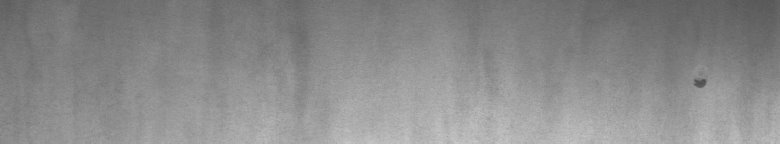fi: (691, 68, 711, 96)
